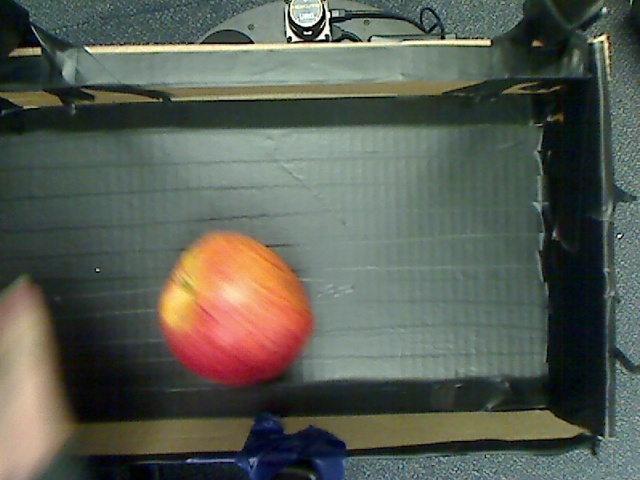apple: (135, 222, 333, 387)
